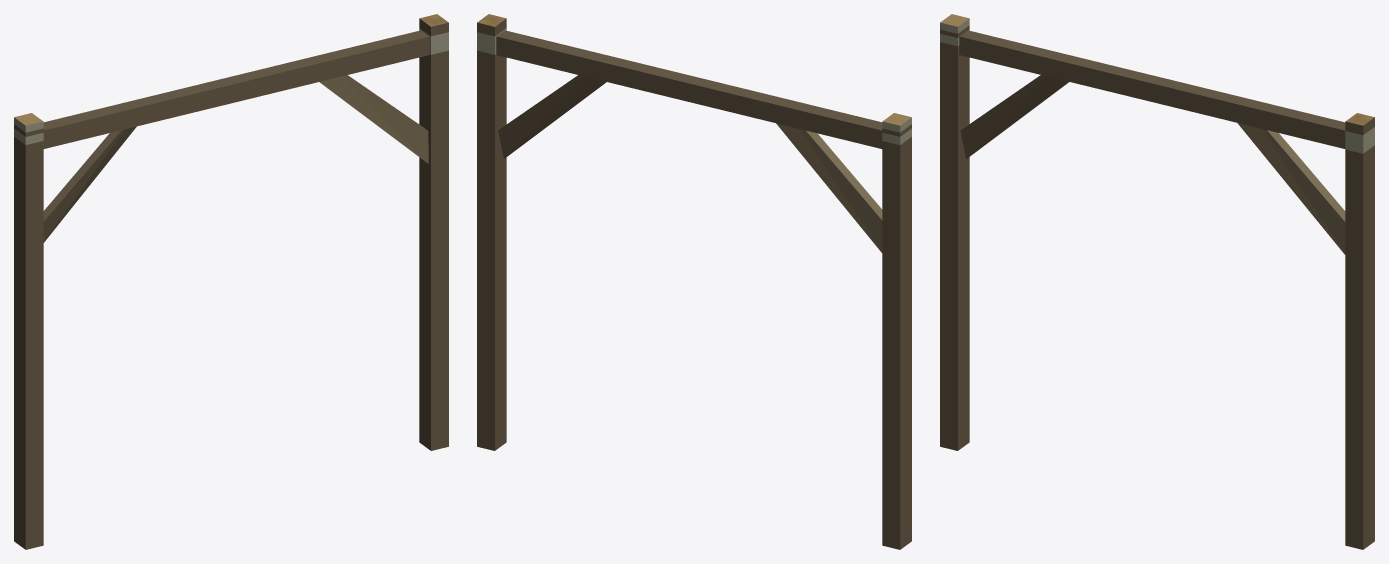
Rendered from Pole_6B_LOD1.fbx.
3 views of the same model, side by side, from view 1: azimuth 30°, elevation 25°; view 2: azimuth 150°, elevation 25°; view 3: azimuth 330°, elevation 25° (orthographic).
Parts seen in each view (by area): view 1: polySurface9786; view 2: polySurface9786; view 3: polySurface9786.
Part boxes in pixels (x1,y1,x2,y2): polySurface9786: [14, 14, 448, 549]; polySurface9786: [477, 14, 911, 549]; polySurface9786: [940, 14, 1374, 549].
Size of the model in its own units: 835 by 800 by 40.
